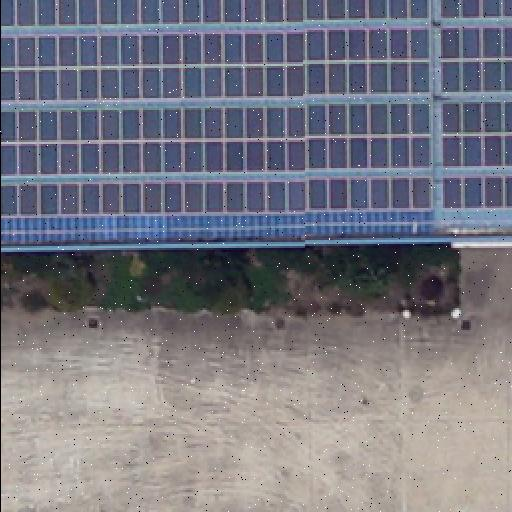solar-panel: (0, 0, 512, 218)
